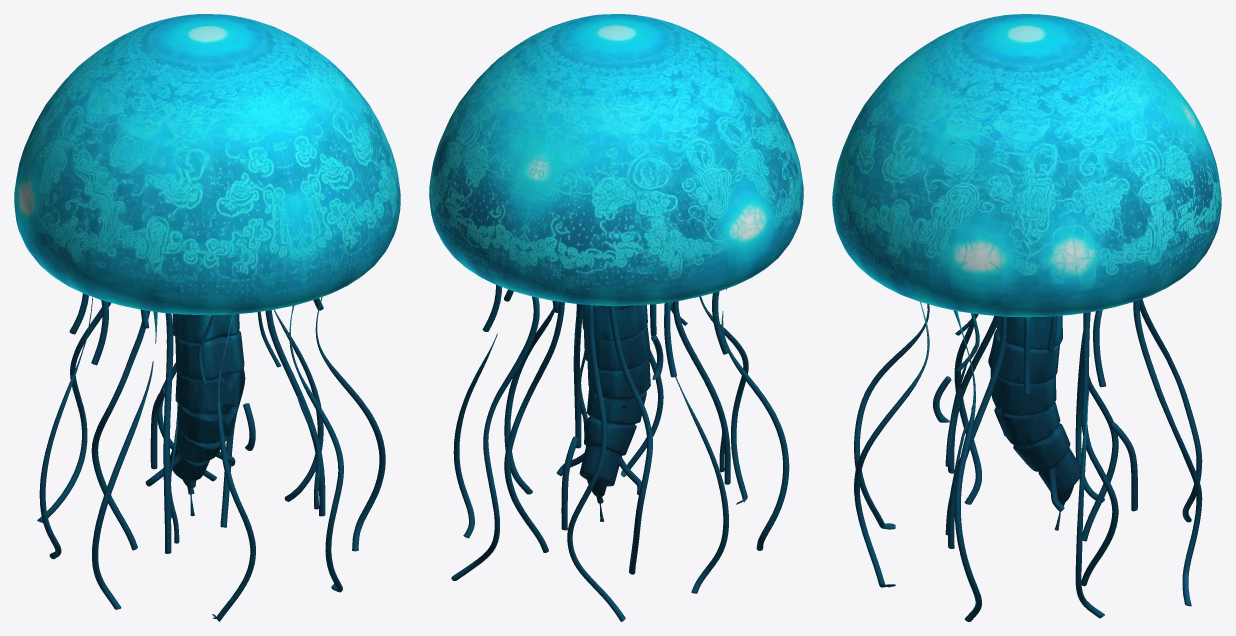
File: jellyfish.glb
3 views of the same model, side by side, from view 1: azimuth 30°, elevation 25°; view 2: azimuth 150°, elevation 25°; view 3: azimuth 270°, elevation 25° (orthographic). The views are drawn at different scales.
Bounding box in the file's own units: 1.26 × 1.9 × 1.26.
1 material, 1 textured.
